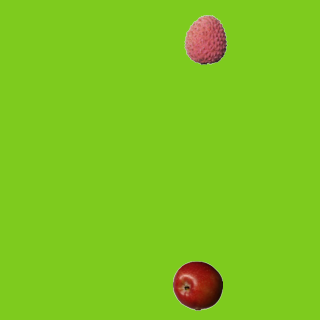Apple Braeburn: (172, 260, 222, 310)
Lychee: (180, 14, 230, 64)
